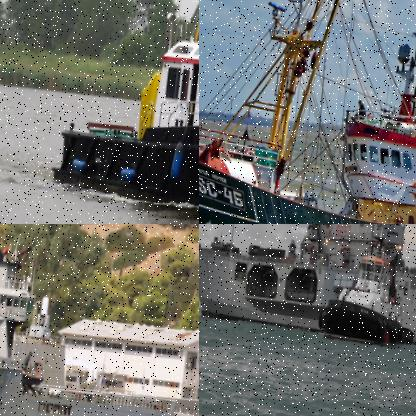Fishing Boat: (199, 0, 415, 223)
Military Ship: (0, 224, 198, 415), (199, 224, 415, 357)
Patrol Boat: (49, 0, 198, 221), (315, 230, 415, 350)
